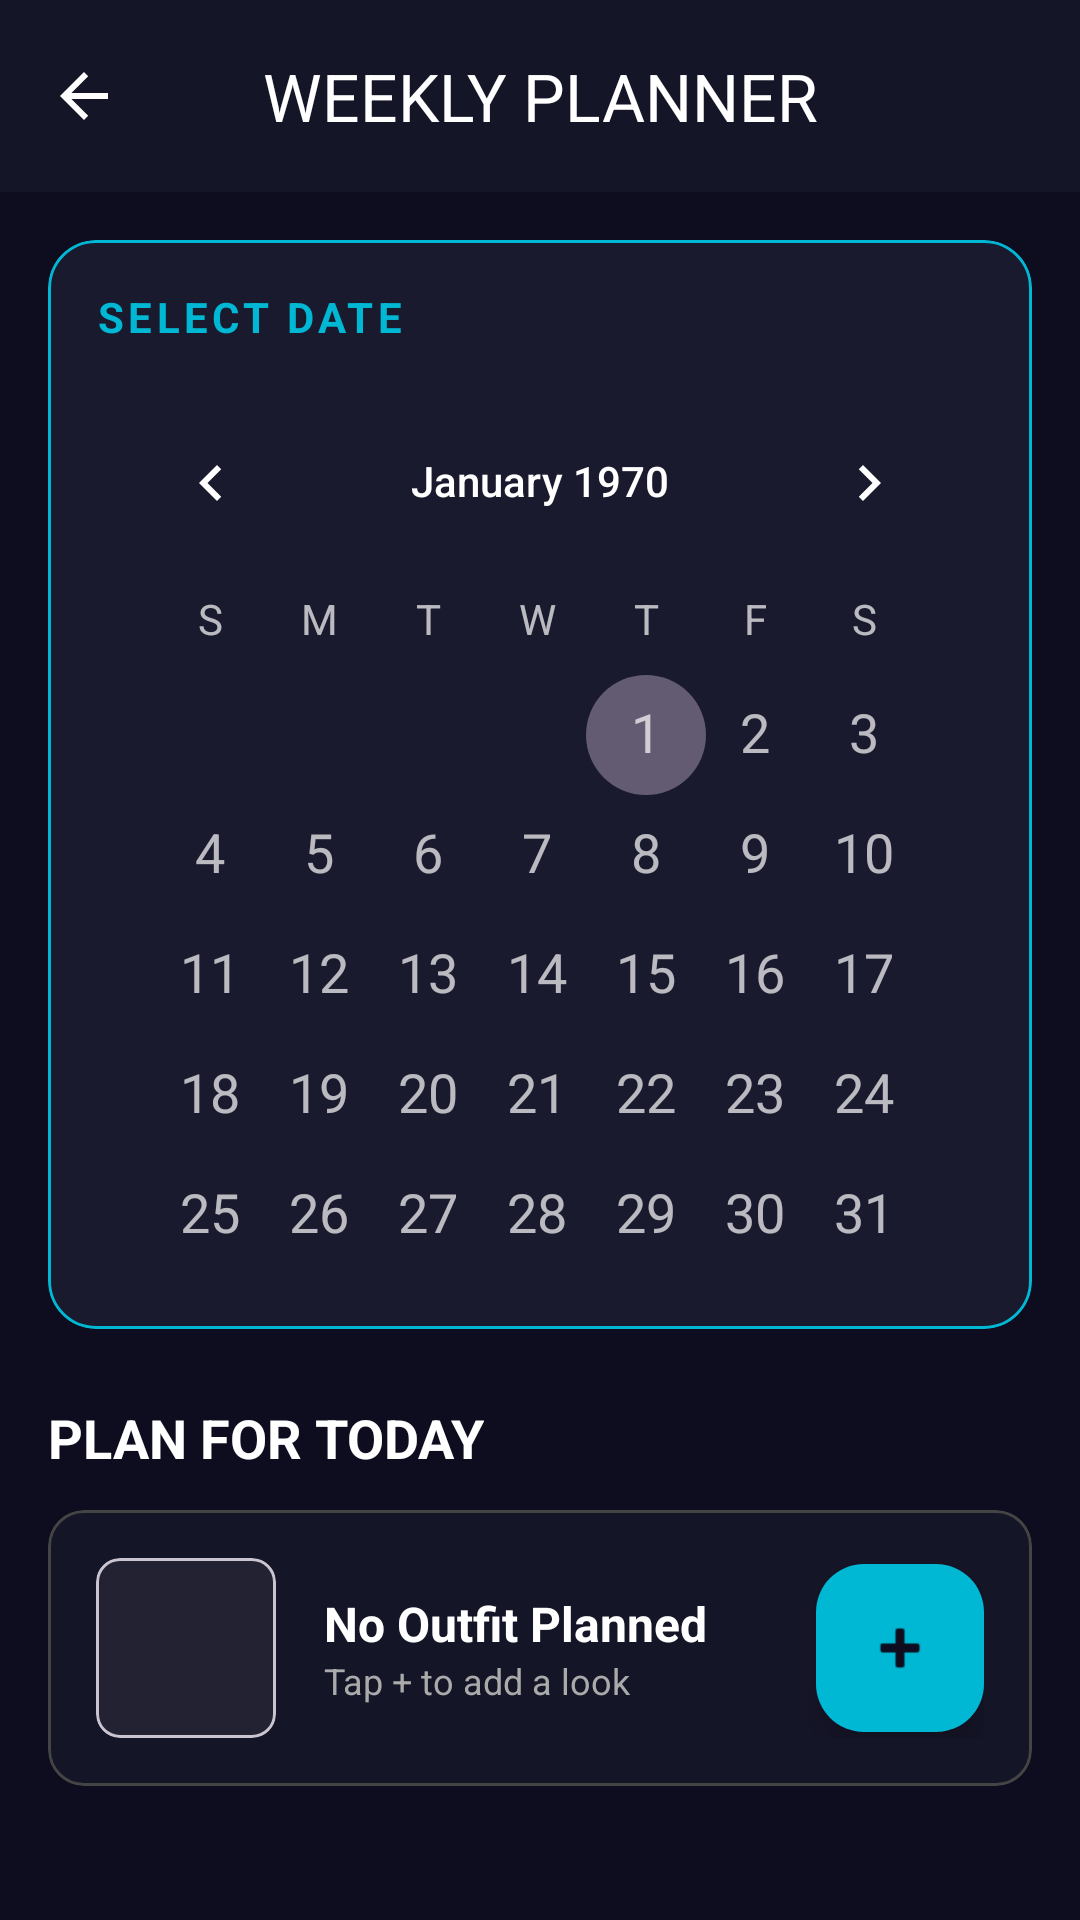

Screen size 1080 x 1920. Icon name, then its box in pixels as (x1,y1,x2,y2):
add: (816,1564,984,1732)
